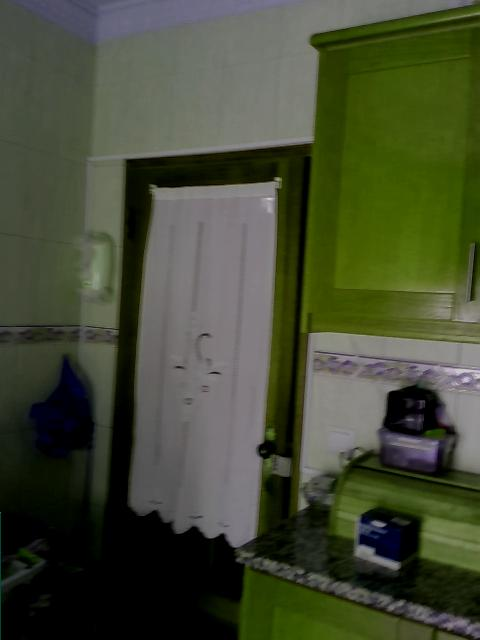closed_door: (100, 142, 308, 638)
